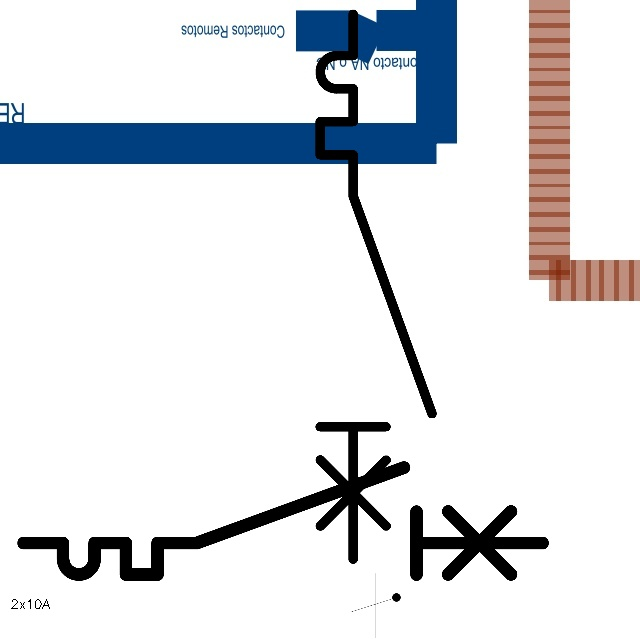interruptor_termomagnetico: (306, 0, 446, 573), (10, 454, 556, 588)
